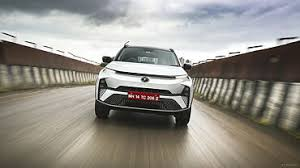Tata Nexon: (93, 39, 195, 130)
